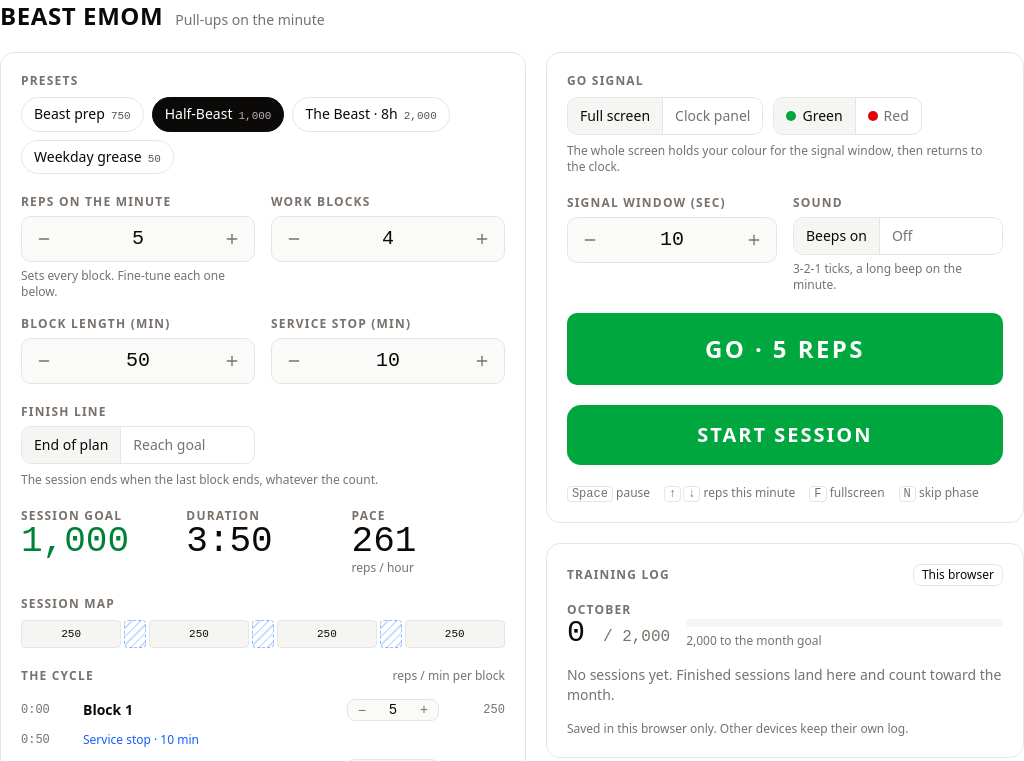
Test case: EmomTracker › lays the summary stats out in three shrinkable cells
Click the button "Start session".
click(785, 435)  # box left=567, top=405, right=1003, bottom=465
Wait 90000 ms
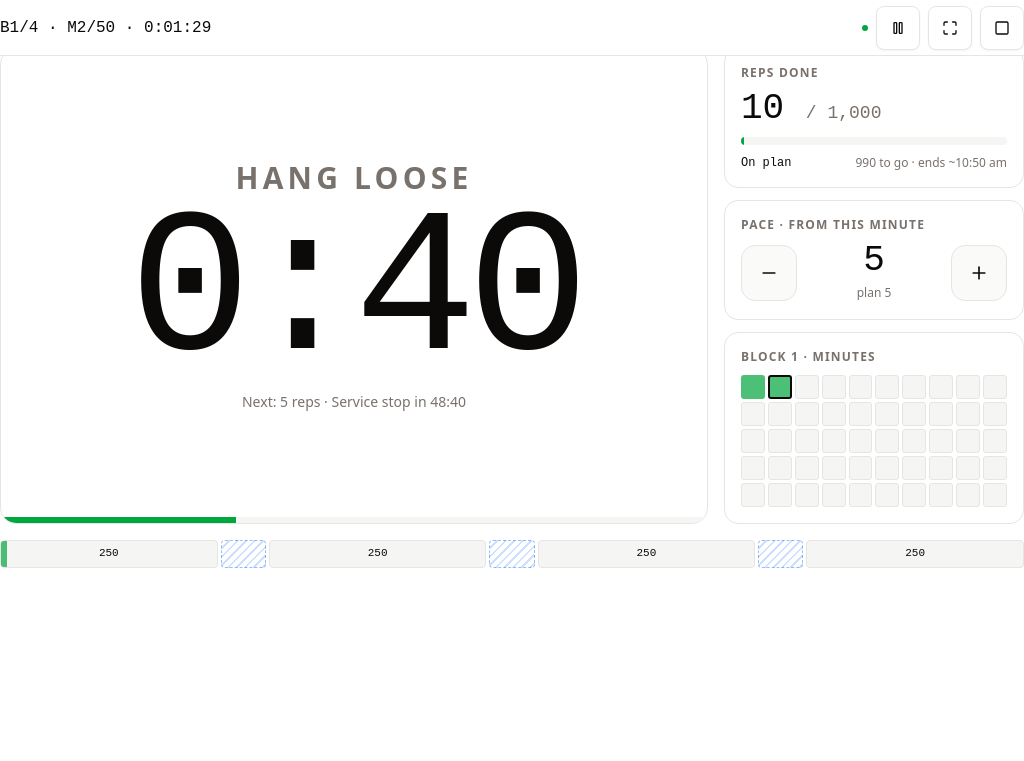
Click the button named "End".
click(1002, 28)  # box left=980, top=6, right=1023, bottom=50
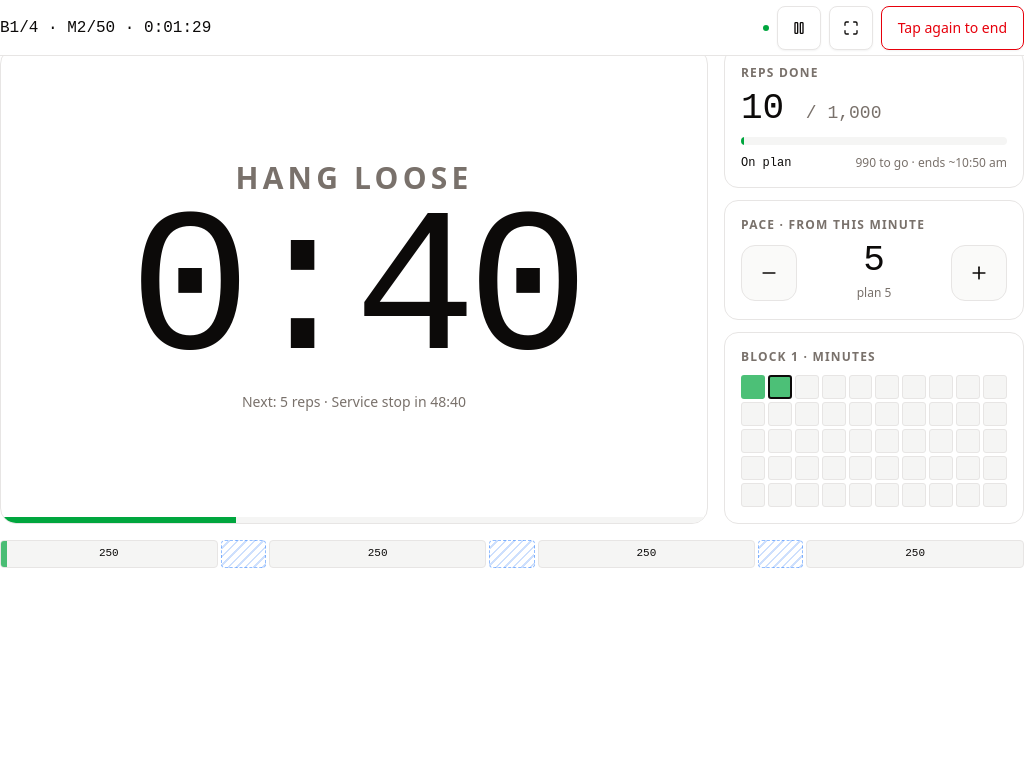
Click the button "Tap again to end".
click(952, 28)  # box left=881, top=6, right=1023, bottom=50
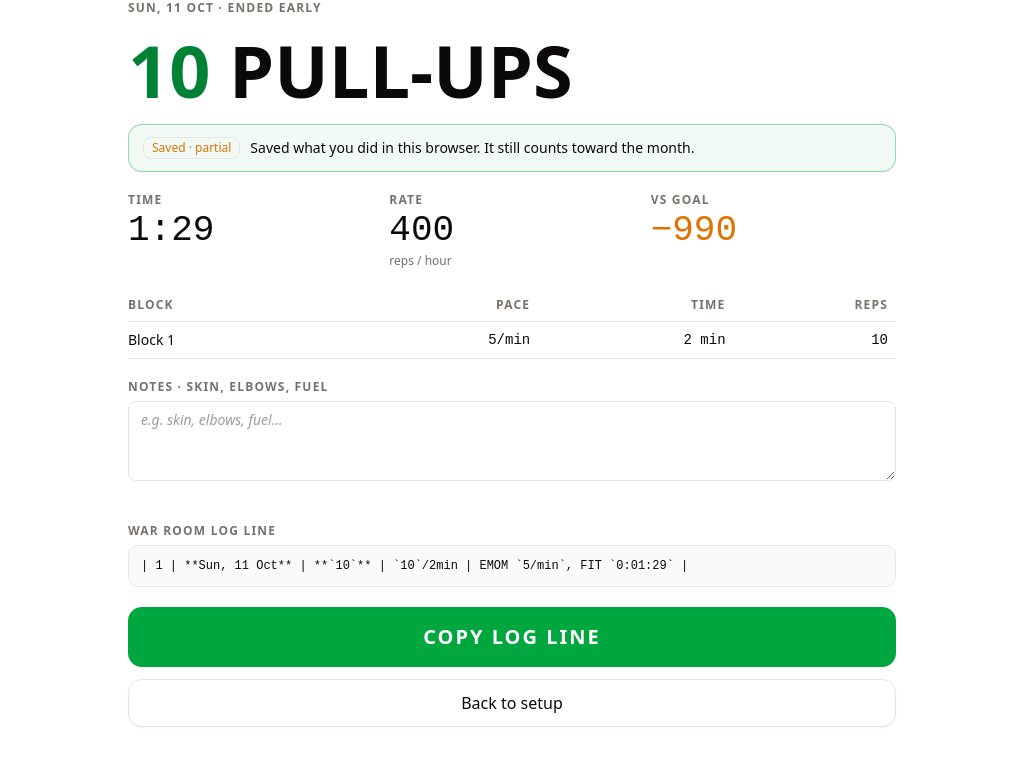
Expected: the text "−990" is shown, left=651, top=210, right=737, bottom=251
